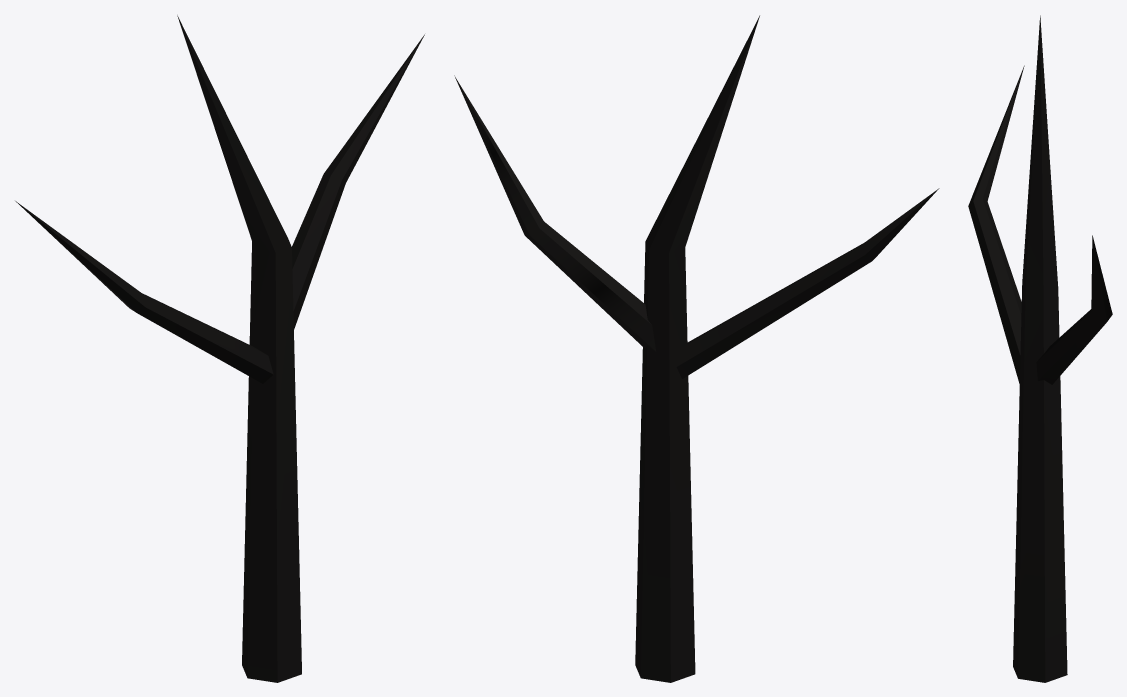
Rendered from tree_burned.fbx.
3 views of the same model, side by side, from view 1: azimuth 30°, elevation 25°; view 2: azimuth 150°, elevation 25°; view 3: azimuth 270°, elevation 25° (orthographic). The views are drawn at different scales.
Parts seen in each view (by area): view 1: tree_burned01; view 2: tree_burned01; view 3: tree_burned01.
Boxes of the visible parts, <box> form: tree_burned01: <box>15,15,424,682</box>; tree_burned01: <box>454,15,939,682</box>; tree_burned01: <box>968,15,1112,682</box>.
Bounding box in the file's own units: 214 × 310 × 65.95.
